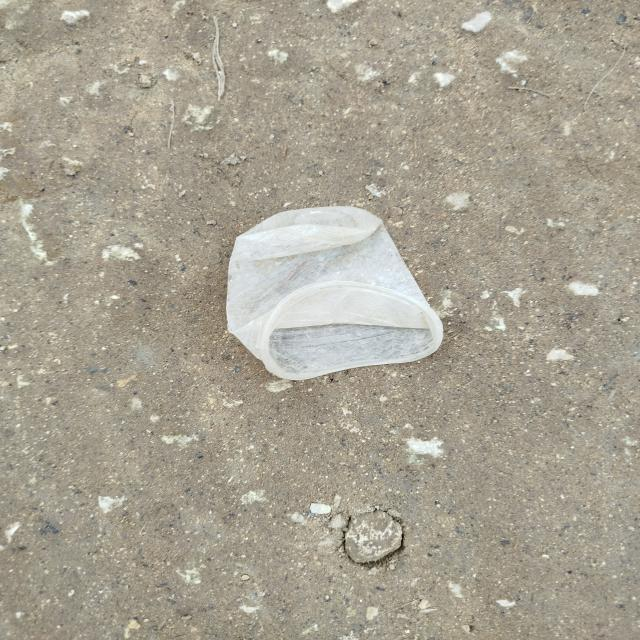plastic: (213, 196, 460, 389)
